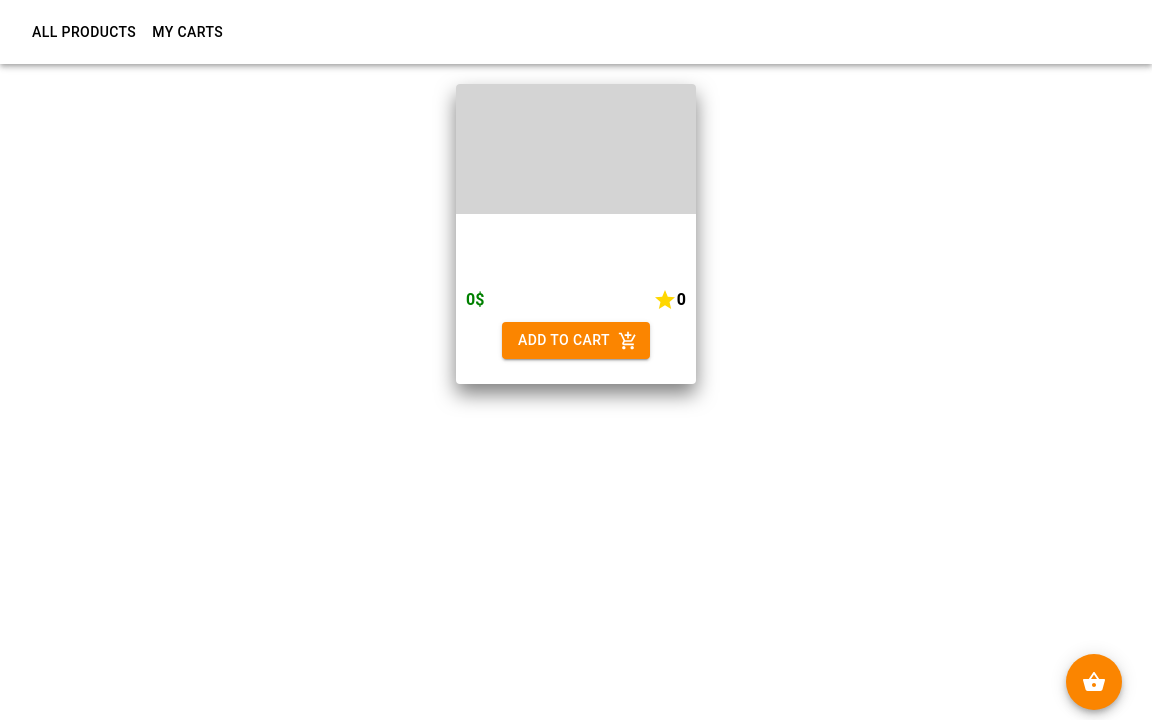
Test: `ALL PRODUCTS` PAGE TEST › Check if there is an information about empty cart
Click the button named "SpeedDial openIcon example".
click(1094, 682)  # box x1=1066 y1=654 x2=1122 y2=710
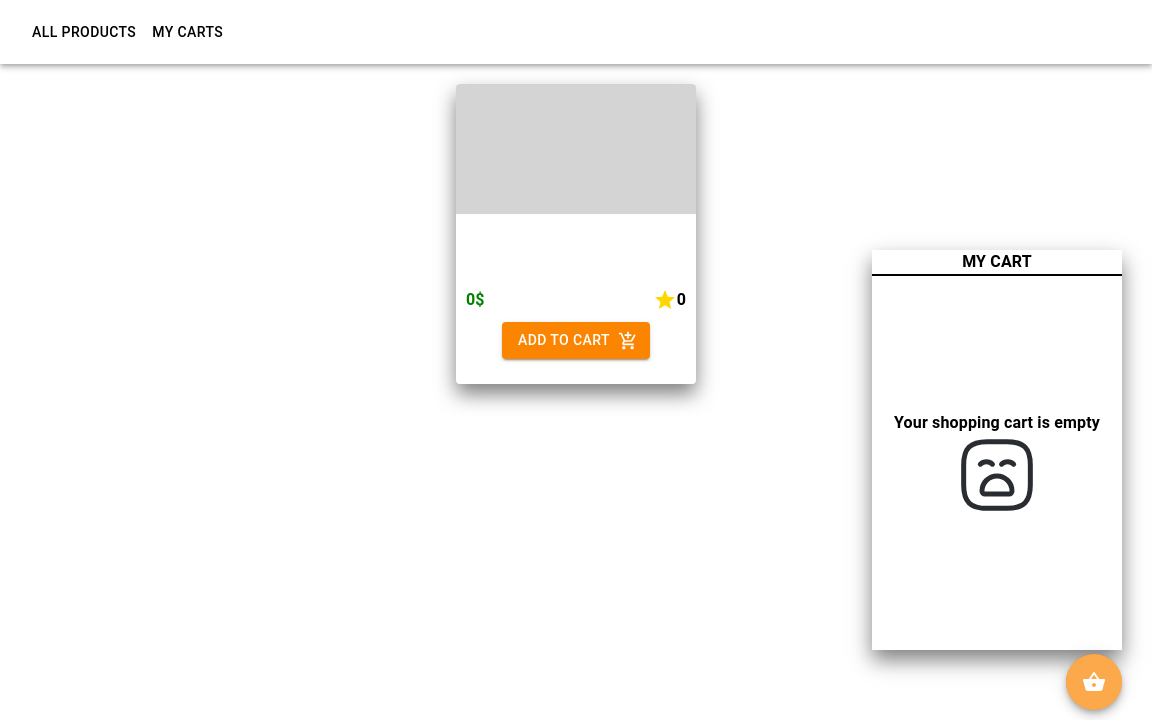
Expected: the text "Your shopping cart is empty" is shown, x1=894 y1=411 x2=1100 y2=435
